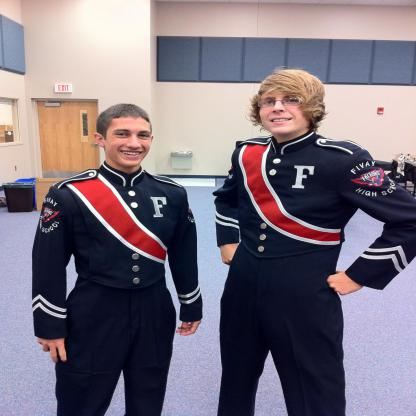face: (259, 83, 313, 134), (108, 116, 154, 168)
